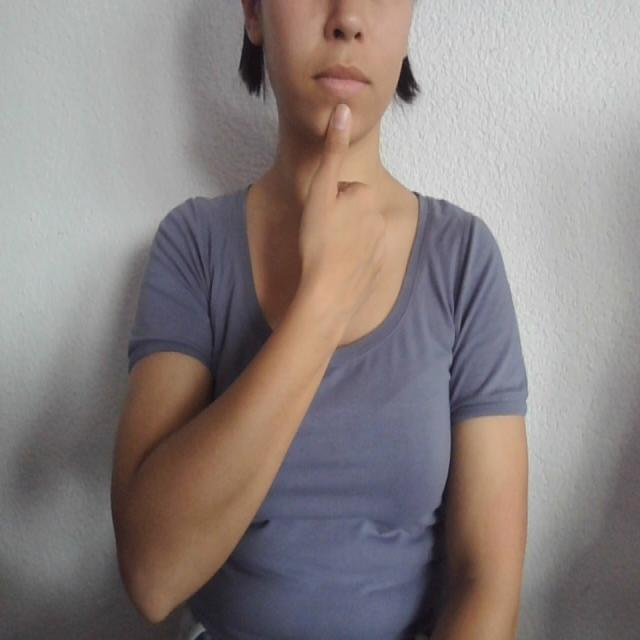Baba: (301, 46, 378, 177)
